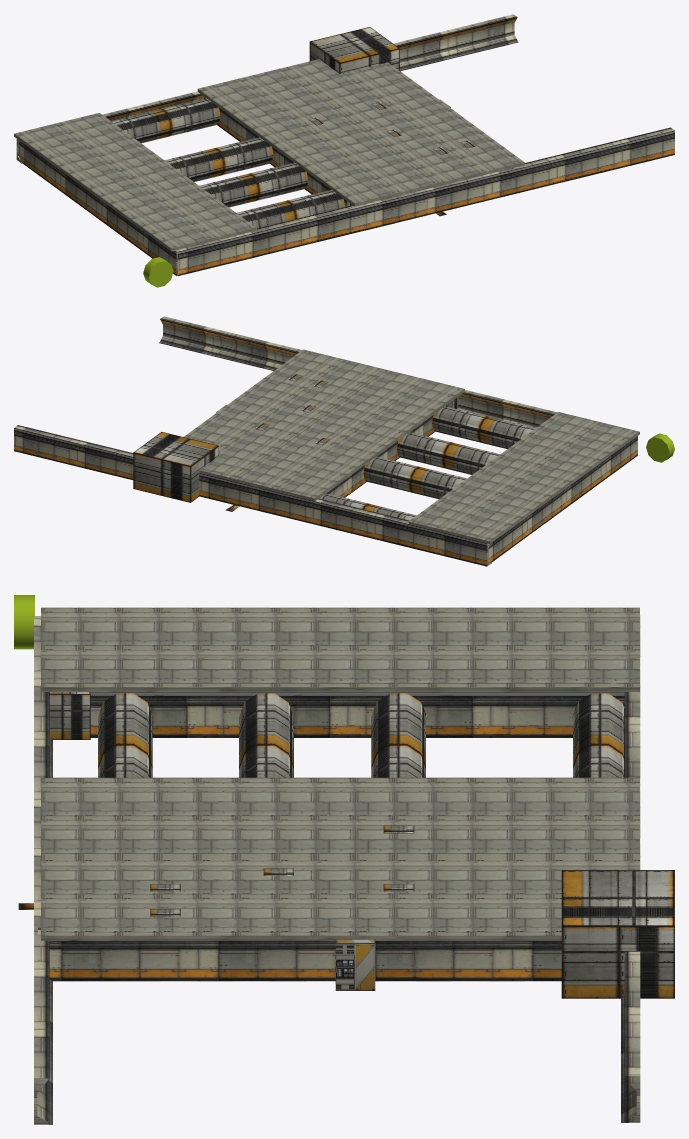
The model's file is space.obj.
3 views of the same model, one above another, from view 1: azimuth 30°, elevation 25°; view 2: azimuth 150°, elevation 25°; view 3: azimuth 270°, elevation 25° (orthographic). The views are drawn at different scales.
Parts seen in each view (by area): view 1: Box018, Box019, Box020, Box008, Box005, Box007, Box002, Box036, Cylinder007, Cylinder001, Cylinder006, Cylinder005 (+3 smaller); view 2: Box018, Box019, Box020, Box006, Box007, Box036, Box008, Box002, Cylinder006, Cylinder001, Cylinder005, Box005 (+3 smaller); view 3: Box018, Box019, Box020, Box017, Box004, Box036, Cylinder006, Cylinder001, Cylinder005, Cylinder007, Box008, Box007 (+5 smaller).
Boxes of the visible parts, left/top/right/bottom form: Box018: left=14, top=113, right=256, bottom=251; Box019: left=197, top=68, right=440, bottom=206; Box020: left=283, top=59, right=524, bottom=185; Box008: left=424, top=127, right=674, bottom=215; Box005: left=176, top=190, right=427, bottom=275; Box007: left=393, top=14, right=518, bottom=71; Box002: left=18, top=141, right=177, bottom=276; Box036: left=309, top=27, right=399, bottom=73; Cylinder007: left=112, top=98, right=220, bottom=143; Cylinder001: left=199, top=162, right=307, bottom=207; Cylinder006: left=165, top=137, right=273, bottom=181; Cylinder005: left=237, top=189, right=349, bottom=228; Box018: left=408, top=412, right=639, bottom=543; Box019: left=233, top=369, right=464, bottom=500; Box020: left=184, top=349, right=383, bottom=481; Box006: left=250, top=485, right=491, bottom=566; Box007: left=14, top=425, right=251, bottom=508; Box036: left=133, top=432, right=218, bottom=502; Box008: left=159, top=316, right=301, bottom=370; Box002: left=488, top=436, right=637, bottom=562; Cylinder006: left=363, top=456, right=466, bottom=499; Cylinder001: left=397, top=432, right=499, bottom=474; Cylinder005: left=432, top=406, right=535, bottom=448; Box005: left=458, top=390, right=557, bottom=428; Box018: left=41, top=607, right=639, bottom=692; Box019: left=41, top=777, right=639, bottom=856; Box020: left=41, top=857, right=639, bottom=940; Box017: left=38, top=927, right=561, bottom=980; Box004: left=90, top=692, right=624, bottom=737; Box036: left=561, top=870, right=674, bottom=998; Cylinder006: left=371, top=693, right=425, bottom=777; Cylinder001: left=239, top=693, right=293, bottom=777; Cylinder005: left=98, top=693, right=152, bottom=777; Cylinder007: left=573, top=693, right=624, bottom=777; Box008: left=34, top=847, right=52, bottom=1124; Box007: left=621, top=847, right=640, bottom=1122.
Bounding box in the file's own units: 240 × 17.07 × 136.
11 materials, 9 textured.
